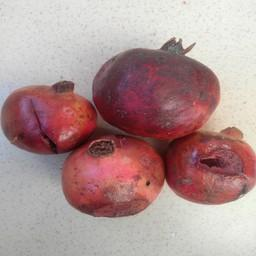Bad_pomegranate: (89, 32, 220, 134), (61, 136, 165, 220), (0, 65, 96, 155), (168, 126, 254, 218)
